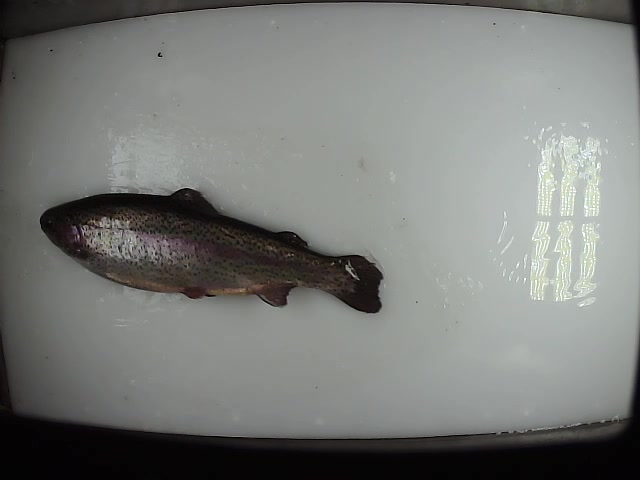fish: (37, 184, 395, 317)
